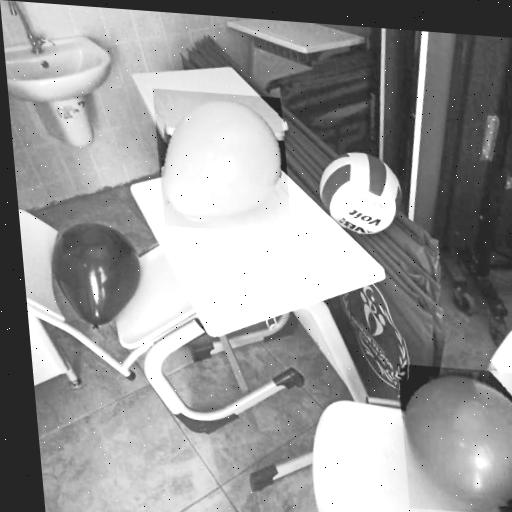balloon: (152, 89, 293, 236), (397, 364, 512, 512)
